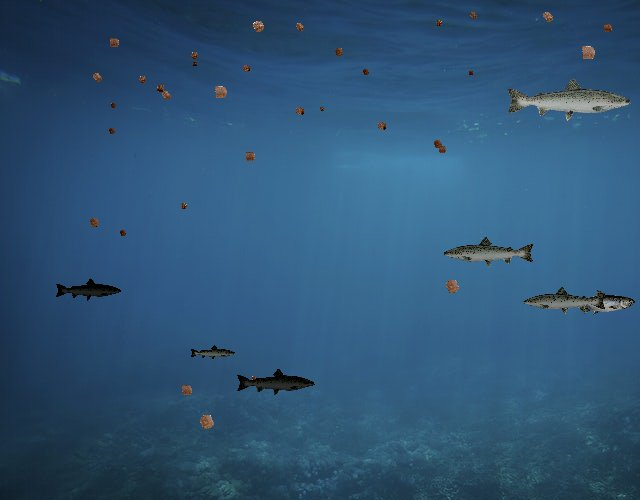Fish: (504, 76, 633, 122), (442, 236, 536, 270), (522, 285, 608, 316), (236, 368, 317, 397), (563, 290, 636, 316), (54, 277, 122, 302), (189, 345, 236, 362)
Pellet: (192, 406, 222, 436), (246, 14, 271, 39), (175, 378, 198, 401), (372, 117, 391, 136), (176, 199, 191, 214), (116, 226, 130, 240), (432, 16, 446, 30)
